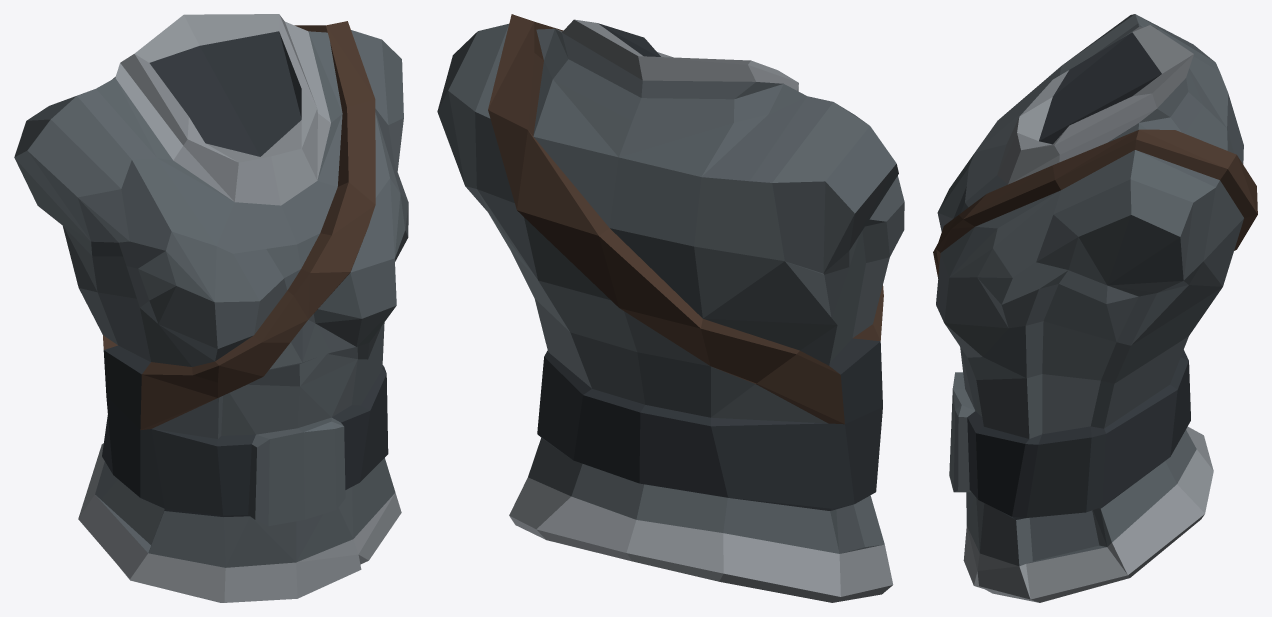
The model's file is Chr_Torso_Female_18_Static.fbx.
The picture shows the model from 3 angles, left to right: view 1: azimuth 30°, elevation 25°; view 2: azimuth 150°, elevation 25°; view 3: azimuth 270°, elevation 25°; orthographic projection. The views are drawn at different scales.
Parts seen in each view (by area): view 1: Chr_Torso_Female_18_Static; view 2: Chr_Torso_Female_18_Static; view 3: Chr_Torso_Female_18_Static.
Boxes of the visible parts, x1=… form: Chr_Torso_Female_18_Static: x1=14, y1=14, x2=408, y2=602; Chr_Torso_Female_18_Static: x1=437, y1=14, x2=904, y2=602; Chr_Torso_Female_18_Static: x1=933, y1=14, x2=1257, y2=602.
Bounding box in the file's own units: 0.5172 × 0.6636 × 0.3839.
